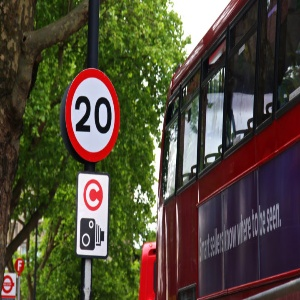20 speed: (65, 68, 120, 162)
